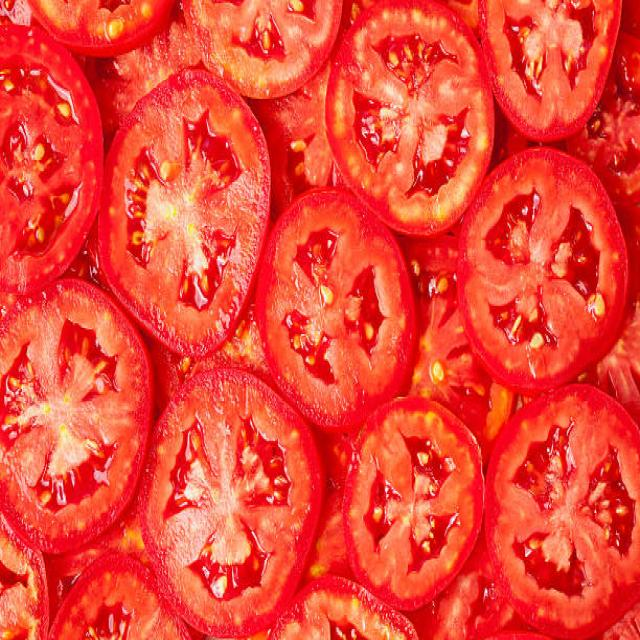Tomato: (127, 345, 323, 640), (252, 166, 426, 440), (451, 148, 627, 410), (102, 90, 263, 371), (2, 275, 140, 568), (495, 376, 640, 639), (342, 362, 479, 608), (333, 14, 483, 226)
